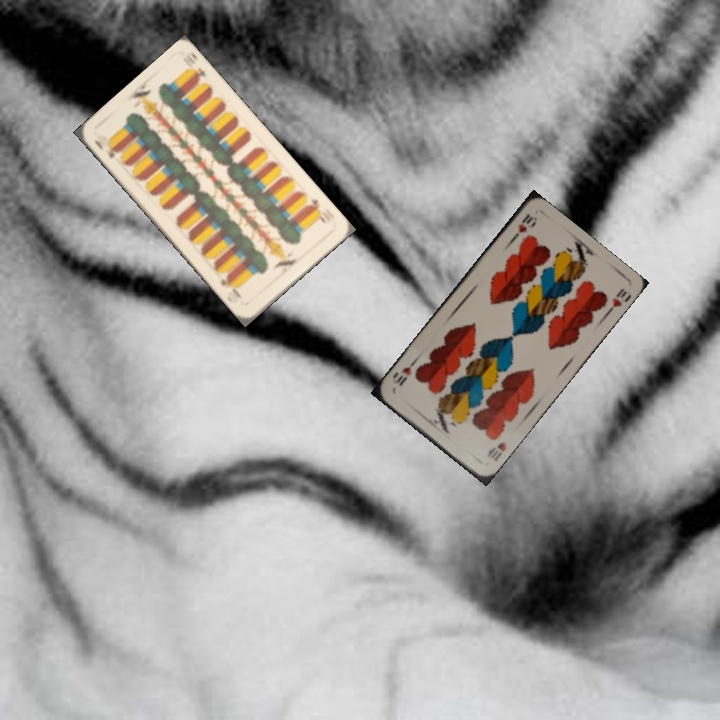E10: (303, 194, 329, 227), (90, 136, 121, 161)
H10: (507, 210, 539, 244), (483, 437, 509, 465)
